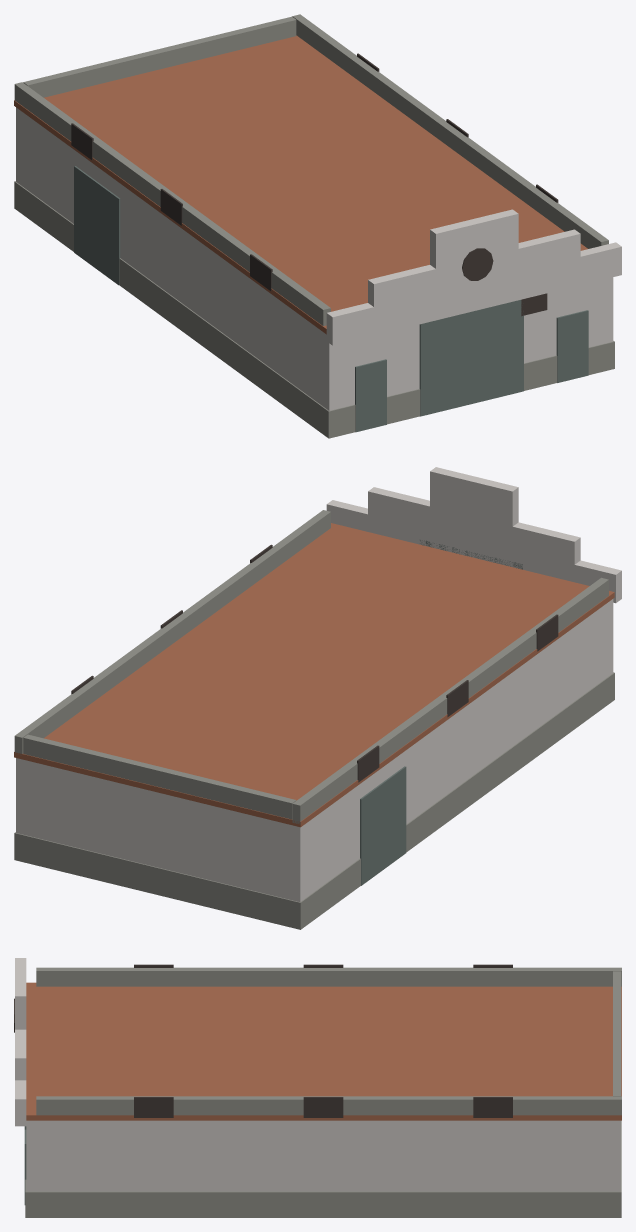
The model's file is SM_Cooperativa_v0_Almacen_LOD1.fbx.
3 views of the same model, one above another, from view 1: azimuth 30°, elevation 25°; view 2: azimuth 150°, elevation 25°; view 3: azimuth 270°, elevation 25° (orthographic). The views are drawn at different scales.
Parts seen in each view (by area): view 1: SM_bloques.cooperativa_v0_LOD1; view 2: SM_bloques.cooperativa_v0_LOD1; view 3: SM_bloques.cooperativa_v0_LOD1.
Part boxes in pixels (left/top/right/bottom): SM_bloques.cooperativa_v0_LOD1: left=14, top=14, right=621, bottom=438; SM_bloques.cooperativa_v0_LOD1: left=14, top=467, right=621, bottom=929; SM_bloques.cooperativa_v0_LOD1: left=14, top=958, right=621, bottom=1217.
Size of the model in its own units: 11.2 by 6.8 by 21.49.
